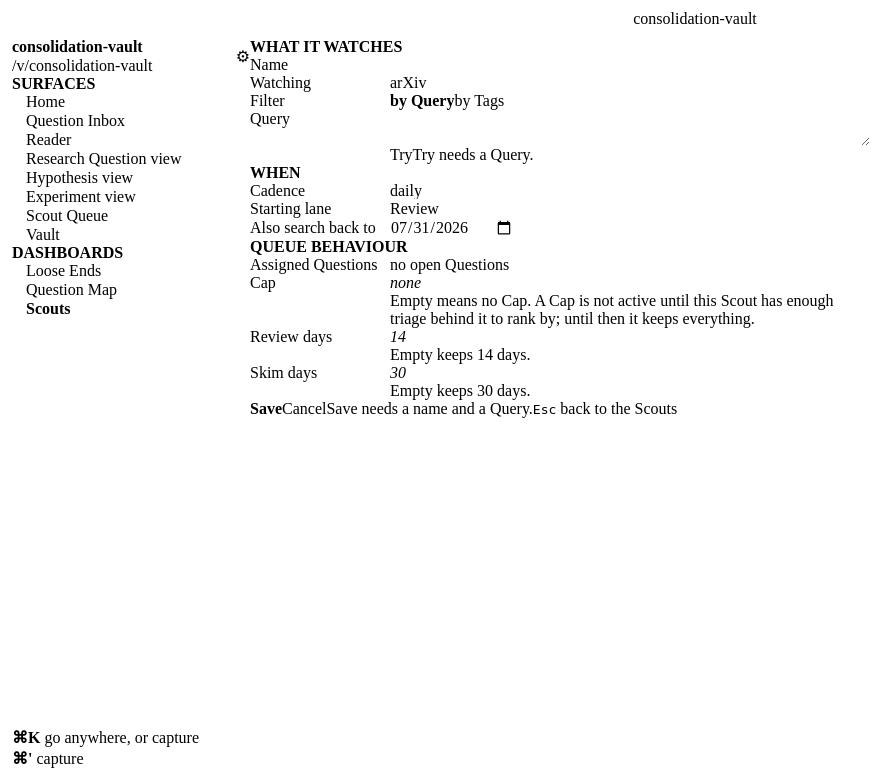
Scenario: the form's OpenAlex source › offers OpenAlex, and says journals and conferences only, and that a preprint-only work will not appear
Check: the form named "New Scout" is shown, box [250,38,870,418]
Select "OpenAlex" in the dropdown labelled "Watching" at (424, 82), box [390,74,458,91]
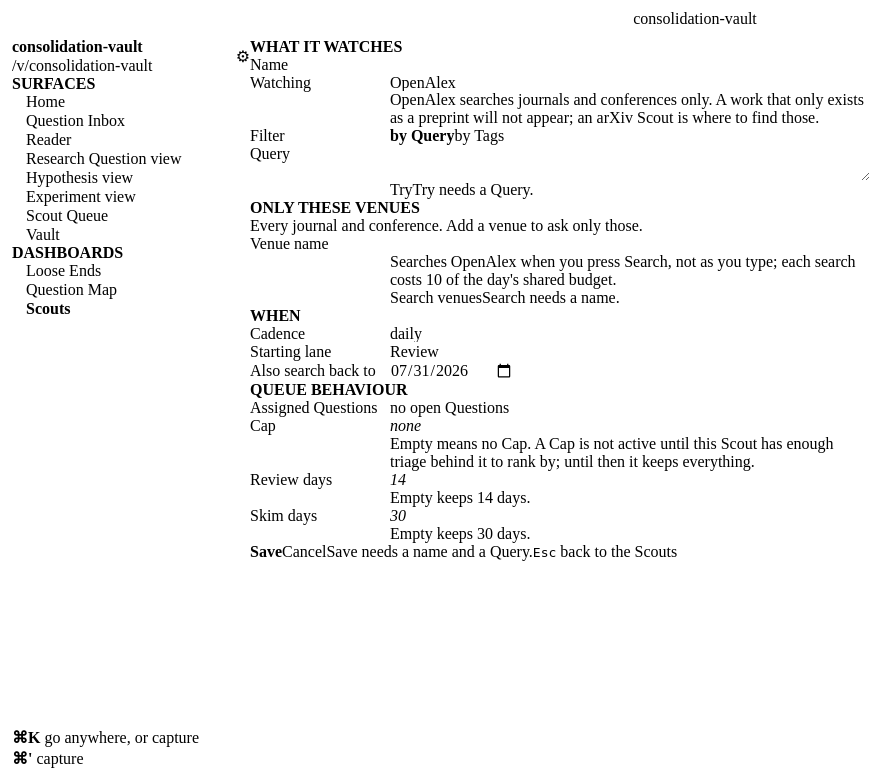
Check: the text box labelled "Query" is shown, box [390,145,870,181]
Check: the text "journals and conferences" shows "only exists as a preprint will not appear", box [390,91,864,126]
